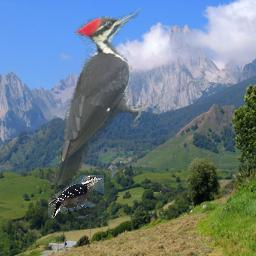Woodpecker: (47, 8, 148, 185), (48, 175, 104, 218)
